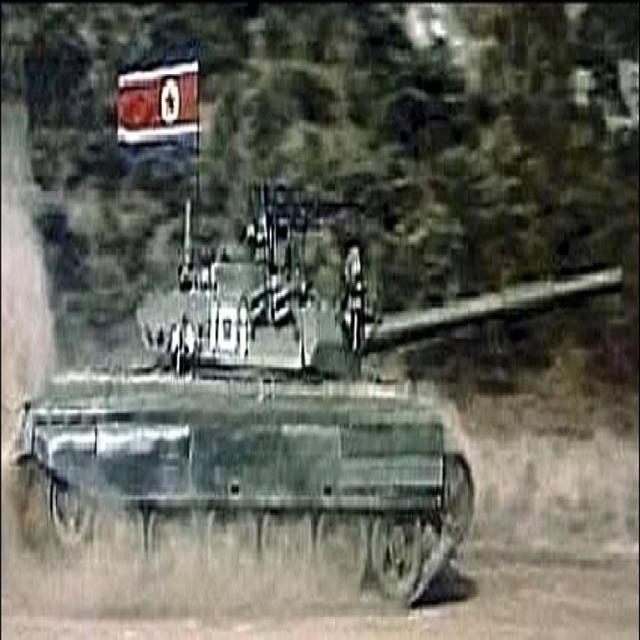north tank: (11, 54, 626, 640)
